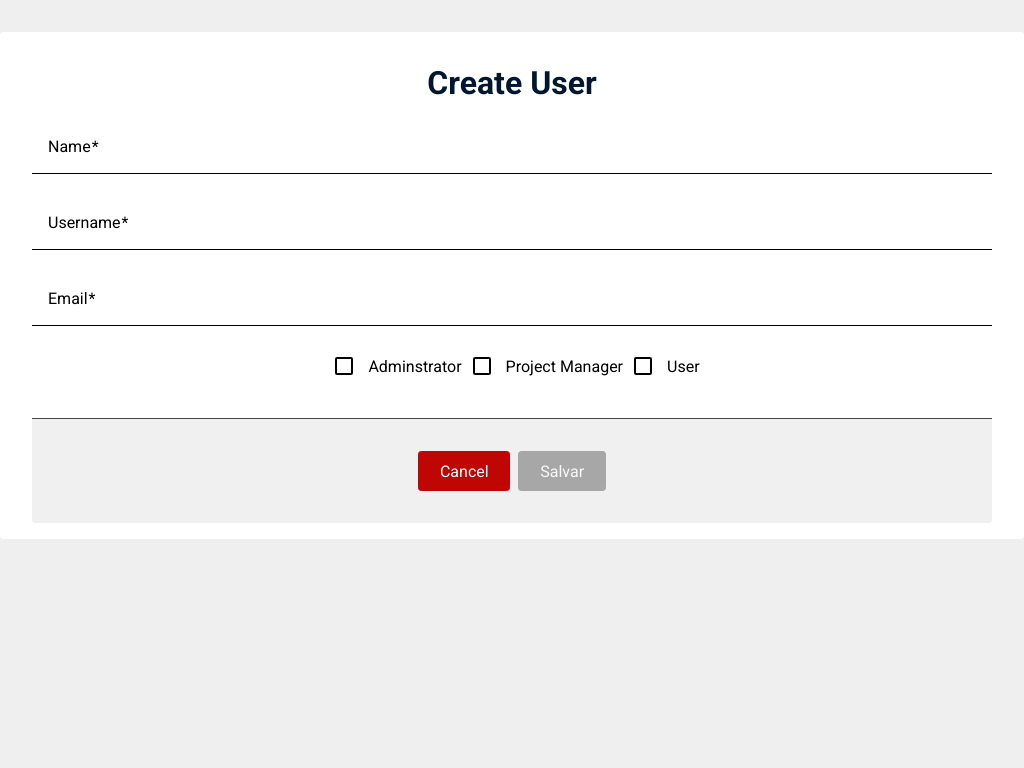
Test: UsersEditComponent › UI Interactions › should disable save button when form is invalid
Expected: the button "MatButtonHarness" is disabled, top-left (518, 451), bottom-right (606, 491)
Type "Test User" into the field named "name" at (512, 152), box top-left (48, 142), bottom-right (976, 161)
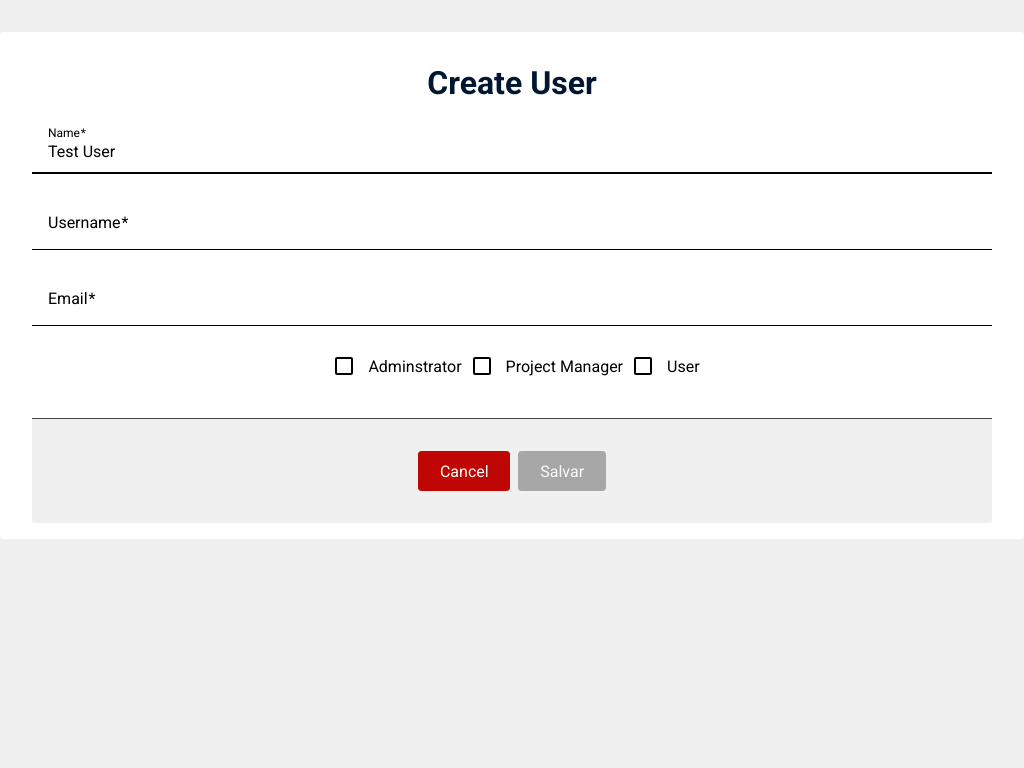
Type "test" into the field named "username" at (512, 228), box top-left (48, 218), bottom-right (976, 237)
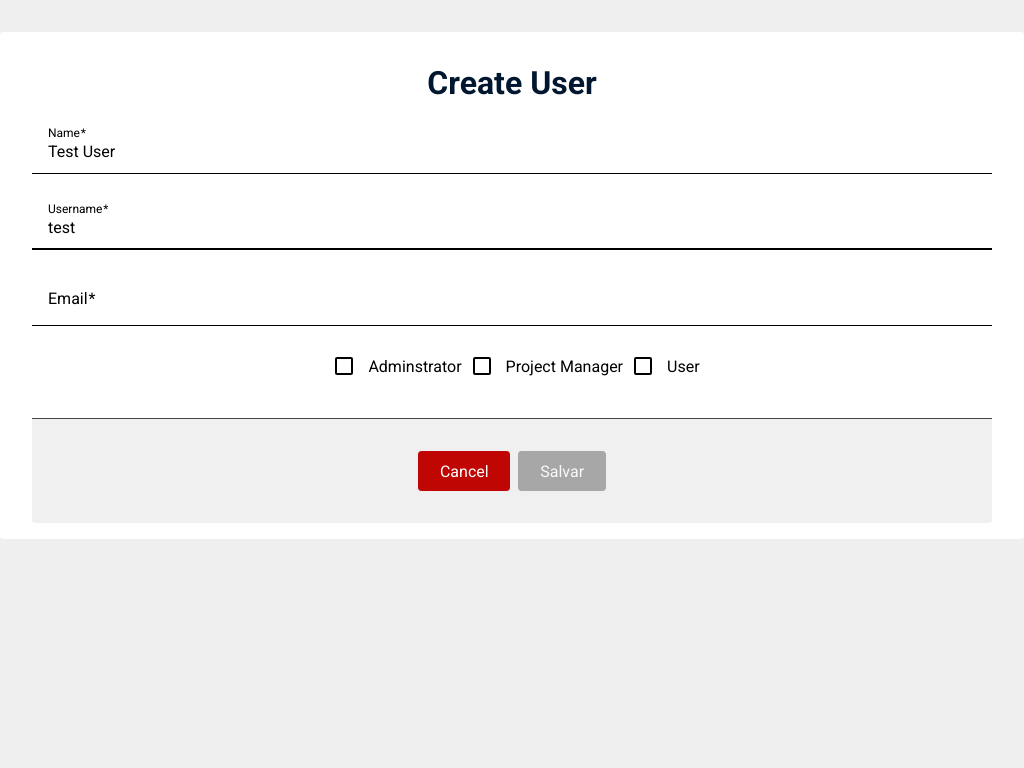
Type "test@example.com" into the field named "email" at (512, 304), box top-left (48, 294), bottom-right (976, 313)
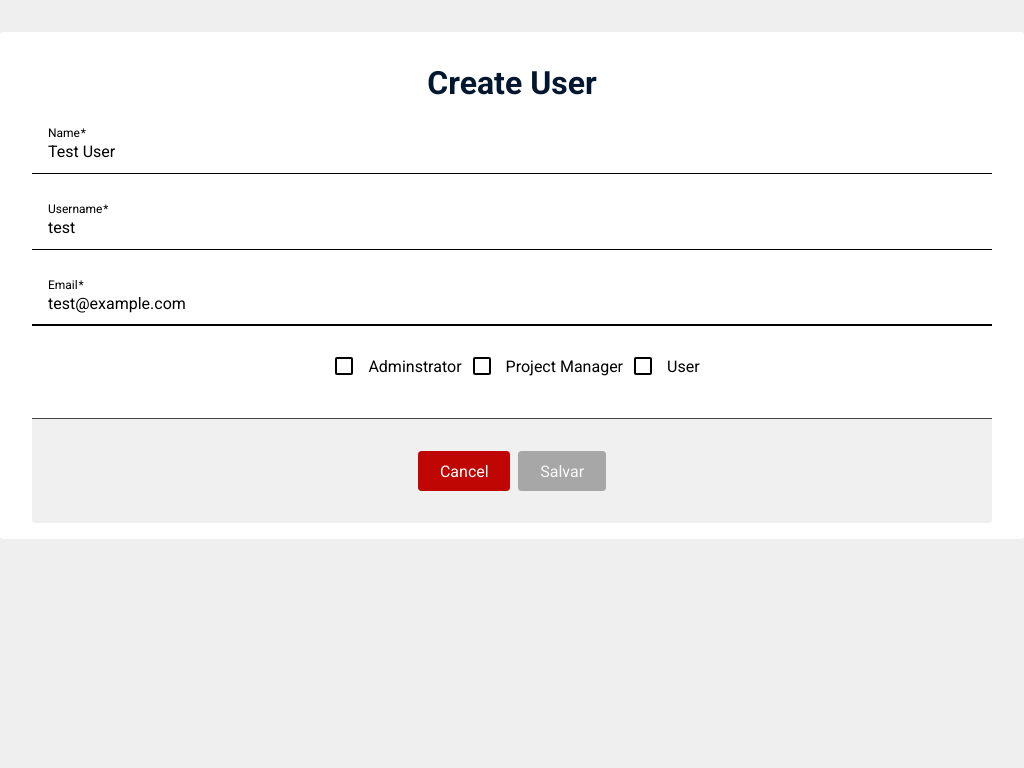
Click the element showing "Adminstrator" at (398, 366), box top-left (335, 356), bottom-right (462, 376)
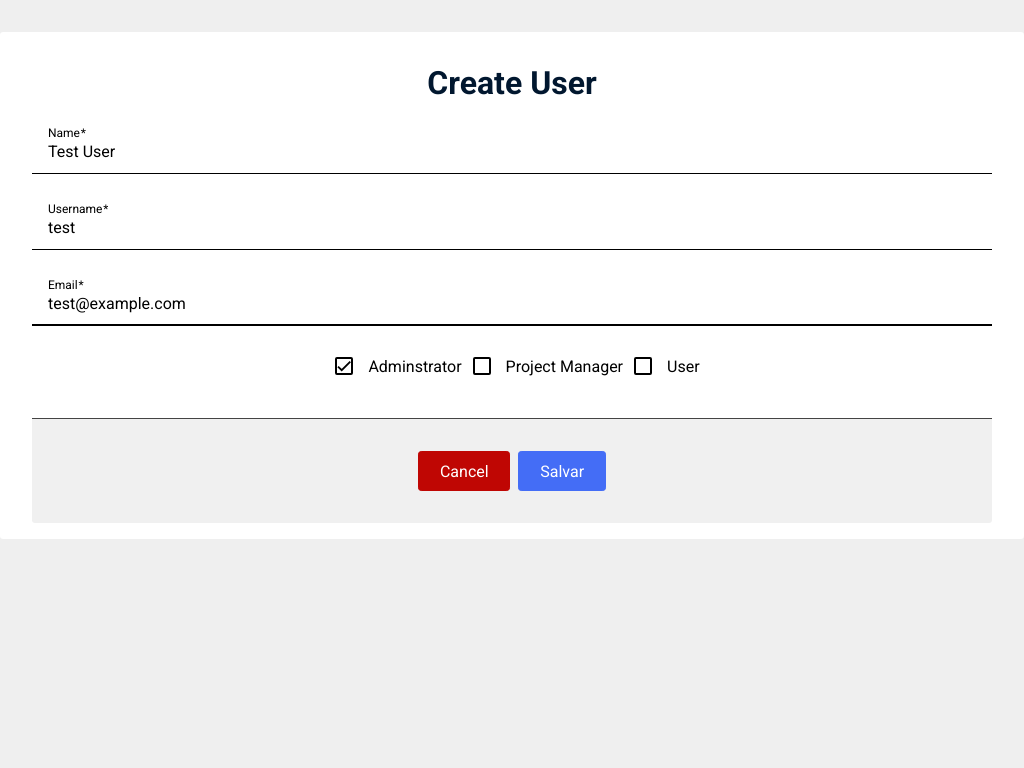
Expected: the button "MatButtonHarness" is enabled, top-left (518, 451), bottom-right (606, 491)
